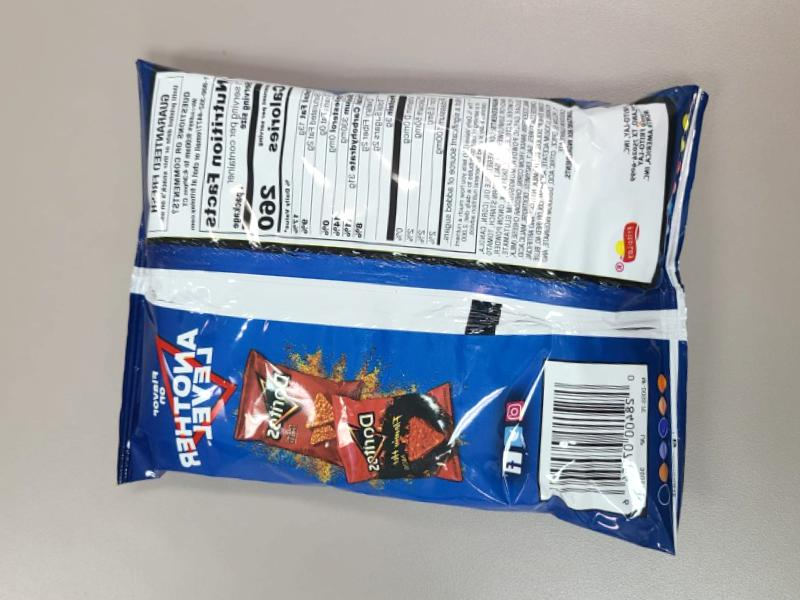doritos: (136, 24, 732, 586)
